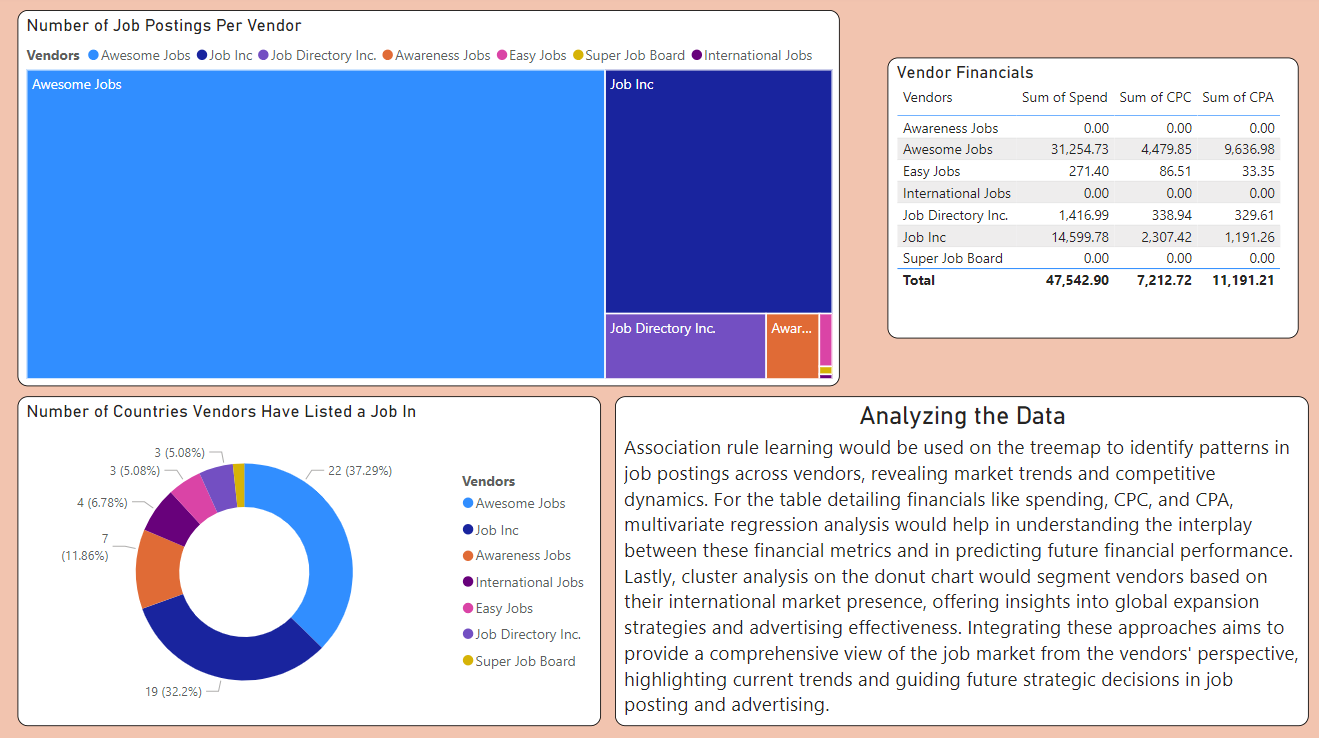

The page's visual inventory and layout, read from the dashboard file:
{"tool":"powerbi","page":{"name":"Vendor","canvas":[1280,720],"ordinal":2},"visuals":[{"type":"tableEx","title":"Vendor Financials","fields":{"Values":["Job Cloud Output.Vendors","Sum(Job Cloud Output.Spend)","Sum(Job Cloud Output.CPC)","Sum(Job Cloud Output.CPA)"]},"box":[861.1,60.3,396.8,271.4],"z":0},{"type":"treemap","title":"Number of Job Postings Per Vendor","fields":{"Group":["Job Cloud Output.Vendors"],"Values":["CountNonNull(Job Cloud Output.Vendors)"]},"box":[21.7,14.5,793.6,363],"z":1000},{"type":"donutChart","title":"Number of Countries Vendors Have Listed a Job In","fields":{"Category":["Job Cloud Output.Vendors"],"Y":["Count(Job Cloud Output.Country)"]},"box":[21.7,387.1,563.2,318.4],"z":2000},{"type":"textbox","title":"Analyzing the Data","box":[598.2,387.1,669.3,318.4],"z":2001}]}

Visuals, with their boxes in screenshot pixels (x1, y1, x2, y2), scaled from the page's 1280x720 canvas onto the 1319x738 screenshot:
"Vendor Financials" tableEx: {"left": 887, "top": 62, "right": 1296, "bottom": 340}
"Number of Job Postings Per Vendor" treemap: {"left": 22, "top": 15, "right": 840, "bottom": 387}
"Number of Countries Vendors Have Listed a Job In" donutChart: {"left": 22, "top": 397, "right": 603, "bottom": 723}
"Analyzing the Data" textbox: {"left": 616, "top": 397, "right": 1306, "bottom": 723}
